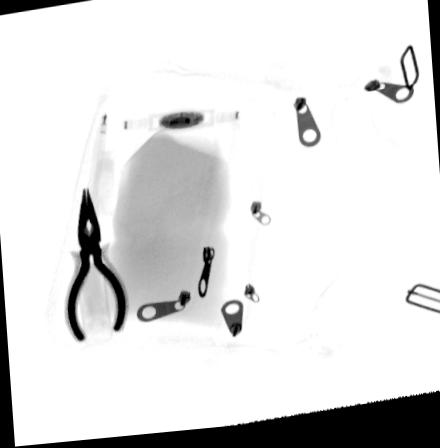Pliers: (63, 187, 130, 343)
